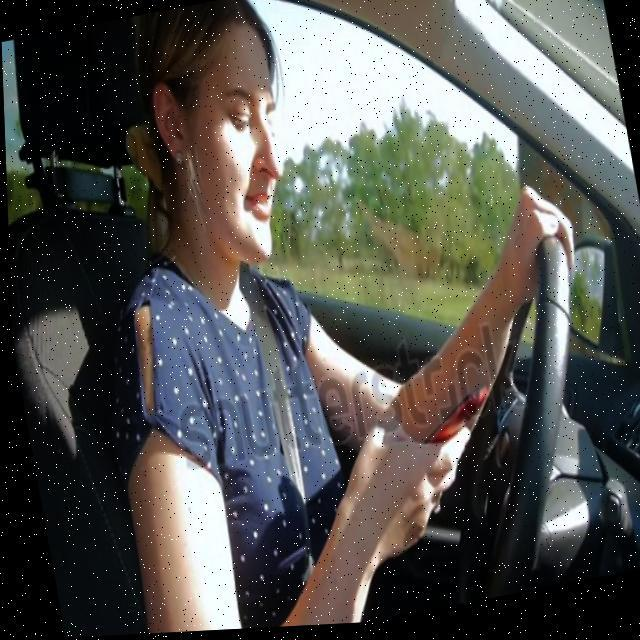PhoneCall: (416, 388, 498, 452)
